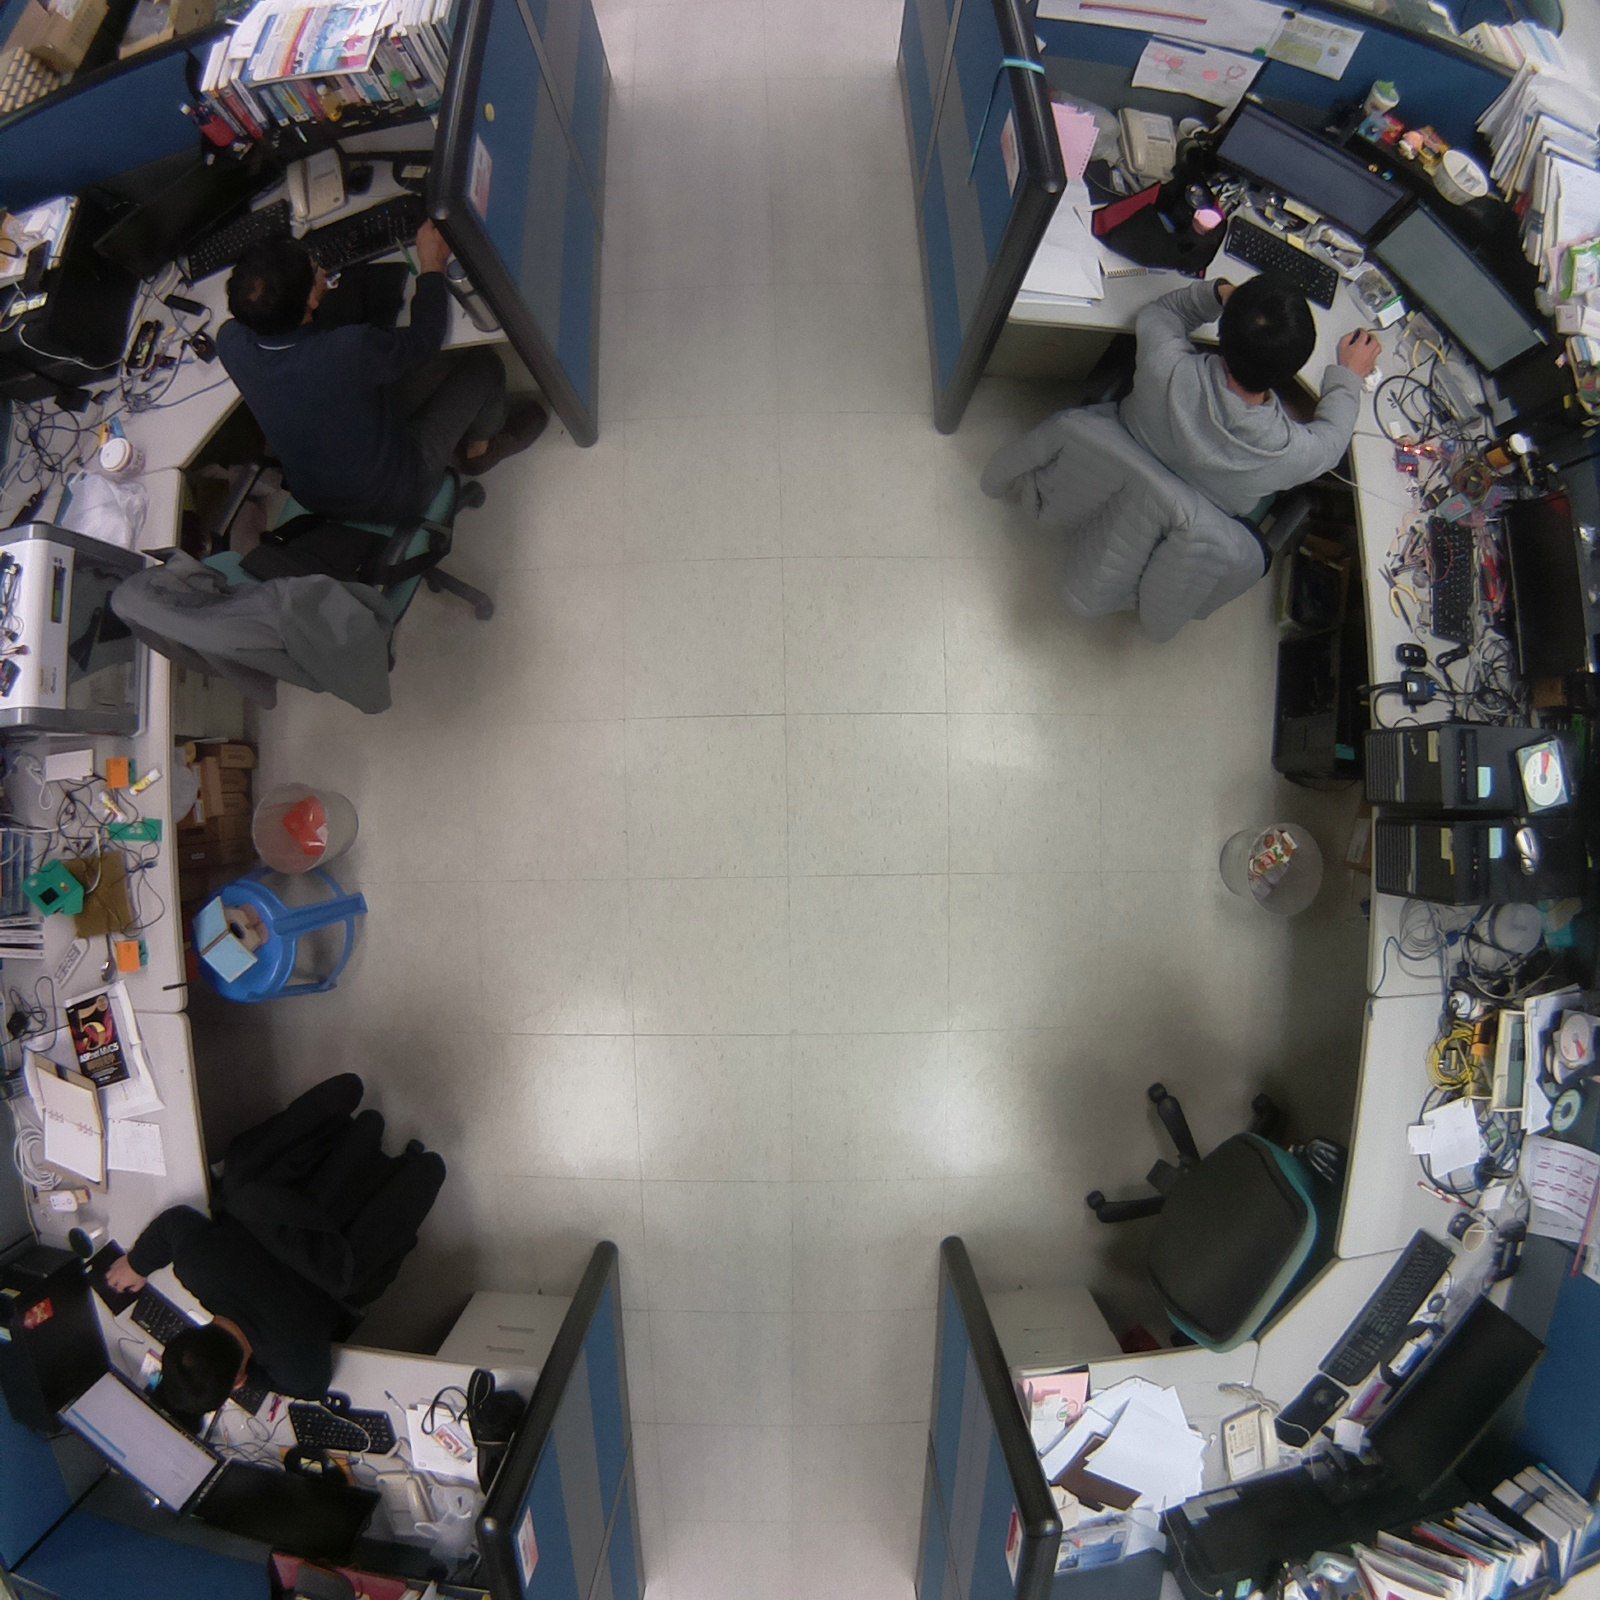chair: (1083, 1065, 1340, 1363)
head: (1210, 263, 1319, 397), (219, 223, 336, 338), (153, 1317, 253, 1421)
sitting: (101, 215, 578, 737), (965, 255, 1387, 670), (96, 1055, 470, 1429)
